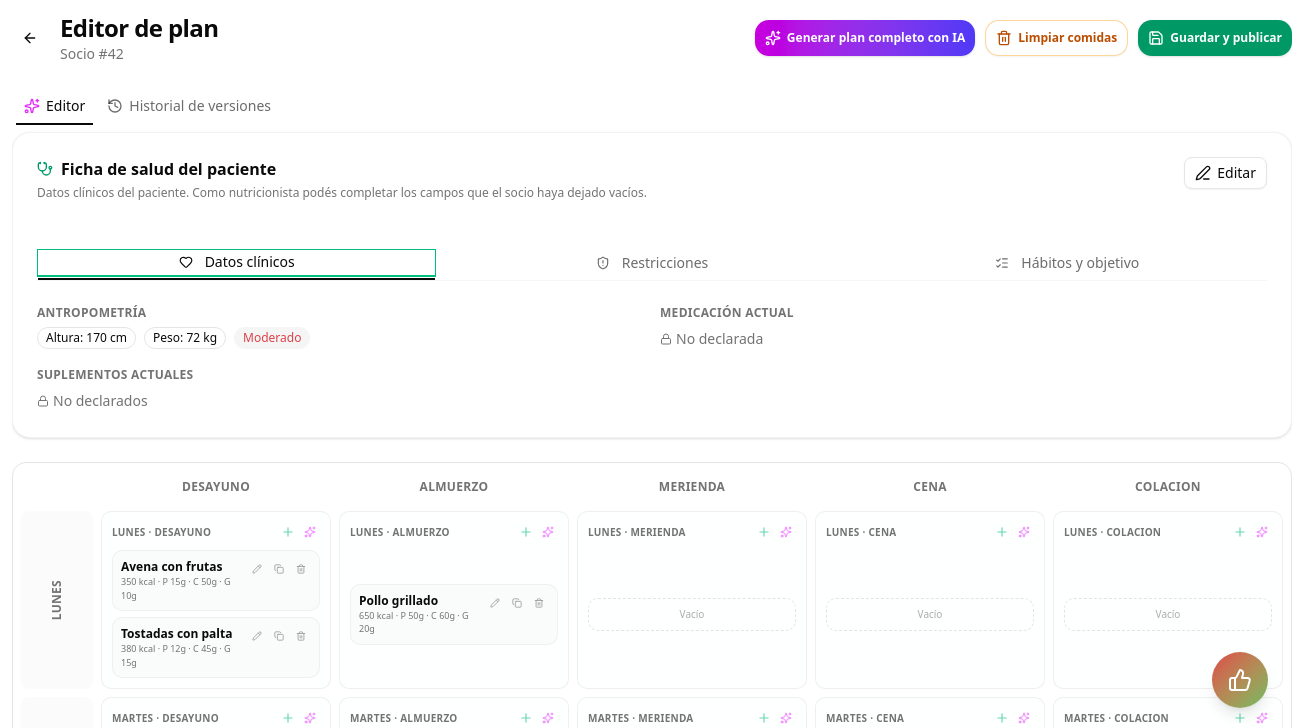
it: PlanEditorPage (Packet 5b) › muestra la VersionHistory en el sidebar cuando hay plan
The image size is (1304, 728).
// Hacer click en la pestaña de Historial de versiones
Click the tab "Historial de versiones". click: coordinates (189, 106)
box: left=98, top=92, right=280, bottom=120
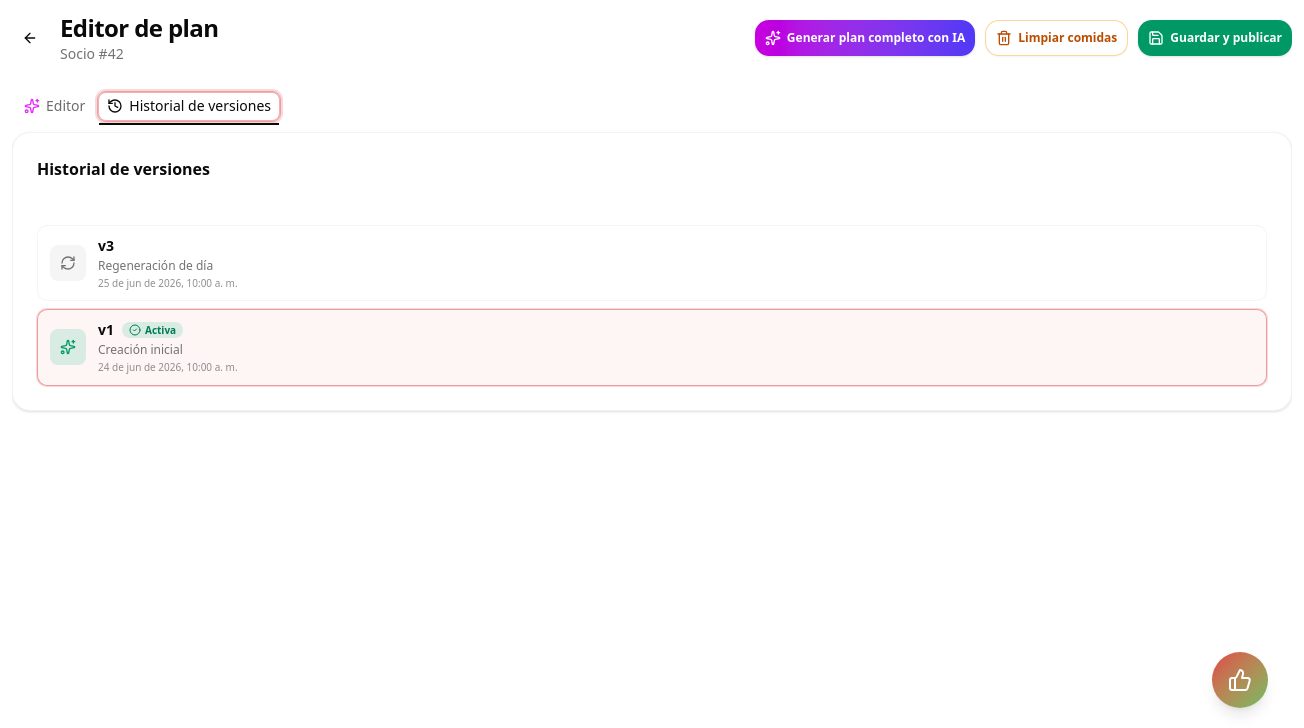
Expected: the number of buttons with test id "version-item" is 2, left=37, top=225, right=1267, bottom=301; left=37, top=309, right=1267, bottom=386
